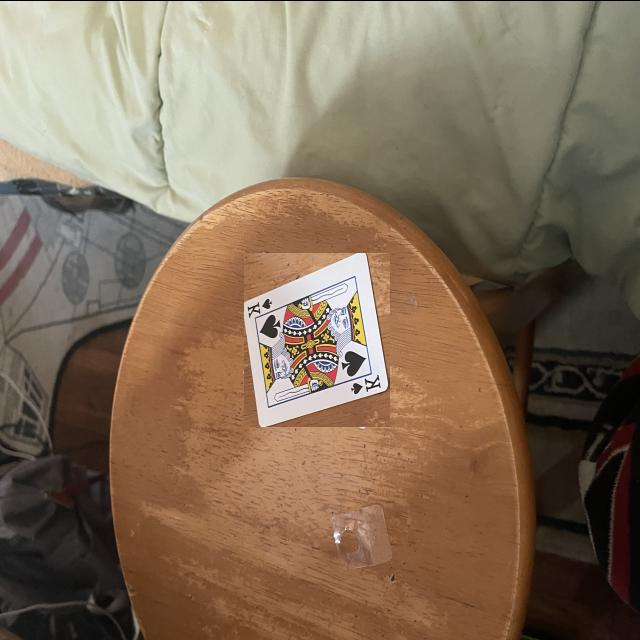King of spades: (244, 252, 389, 426)
